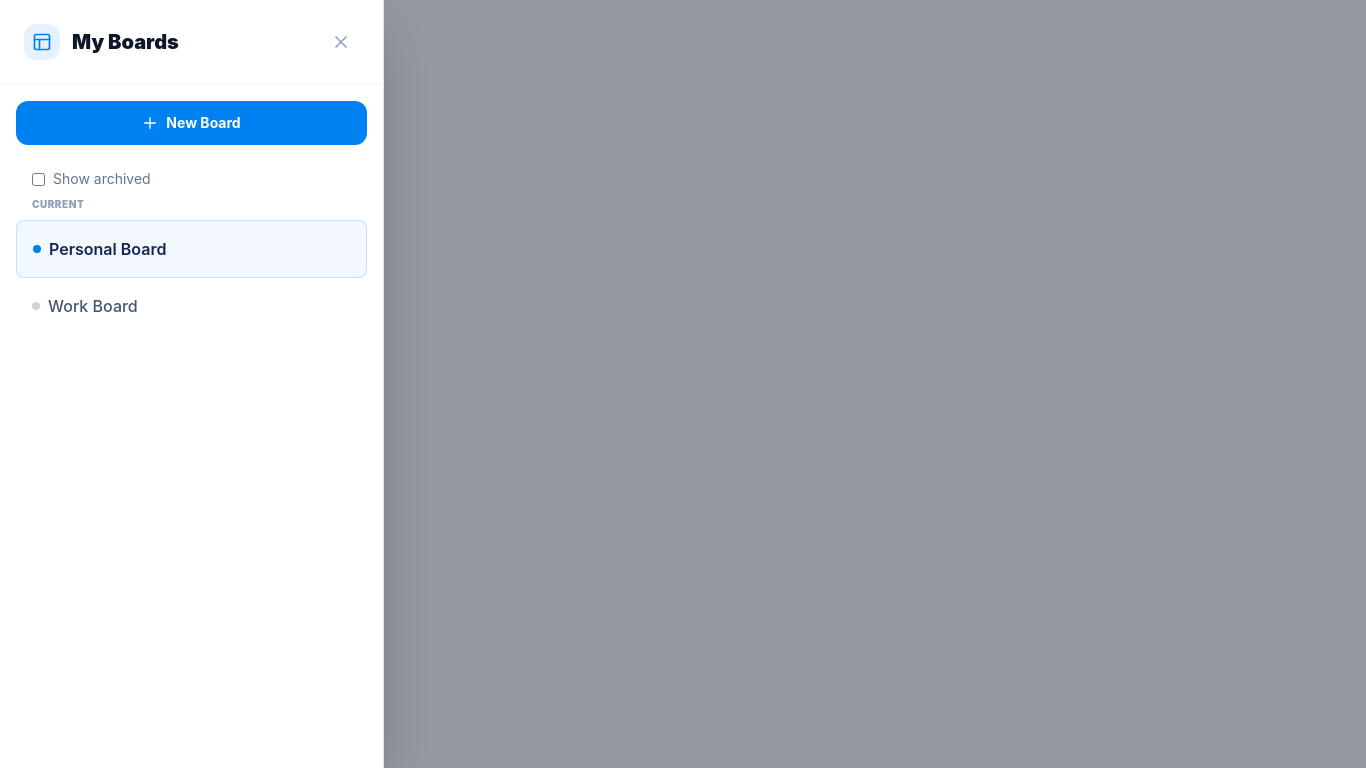
Test: BoardPanel › rendering › renders archived boards when showArchived is checked
Click the checkbox at coordinates (38, 179), box x1=32 y1=172 x2=45 y2=186
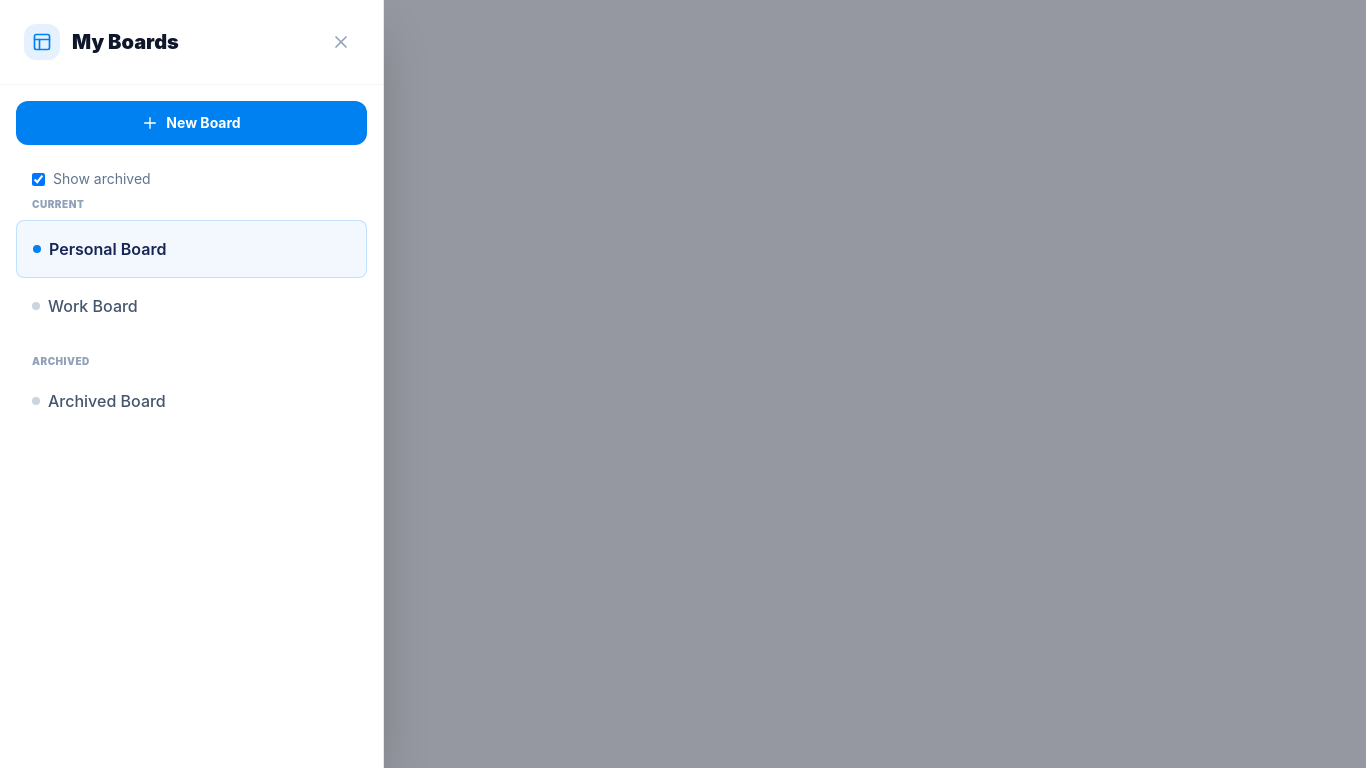
Result: the text "Archived Board" is shown at x1=48 y1=389 x2=166 y2=413
